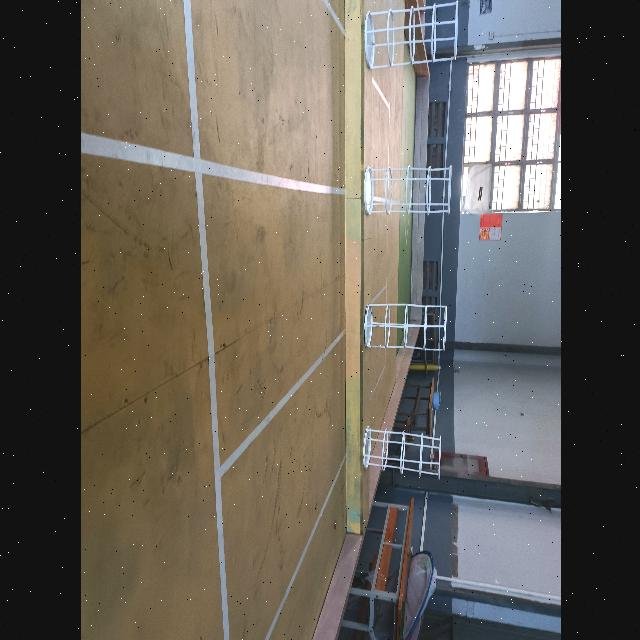S: (362, 0, 459, 70), (360, 164, 453, 217), (360, 426, 443, 480), (361, 302, 447, 352)
